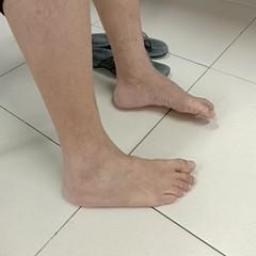Lateral View -Right Foot-: (38, 121, 212, 228)
